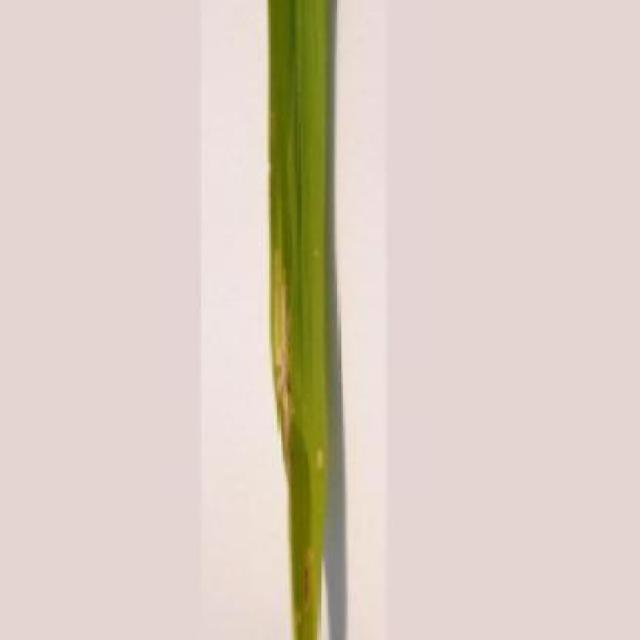Brown_Spot: (258, 0, 338, 640)
